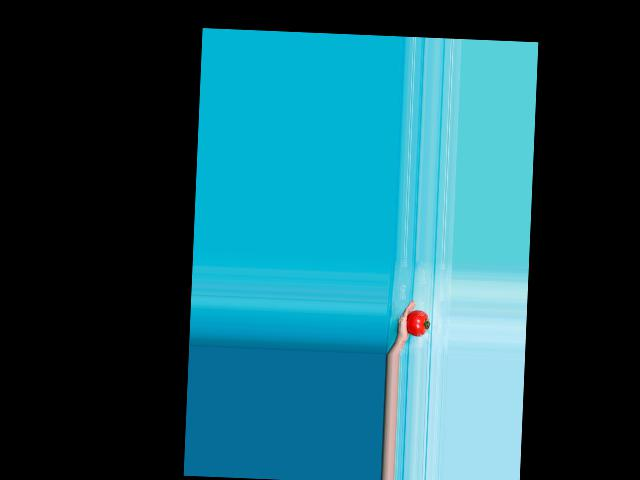tomato: (405, 309, 429, 336)
